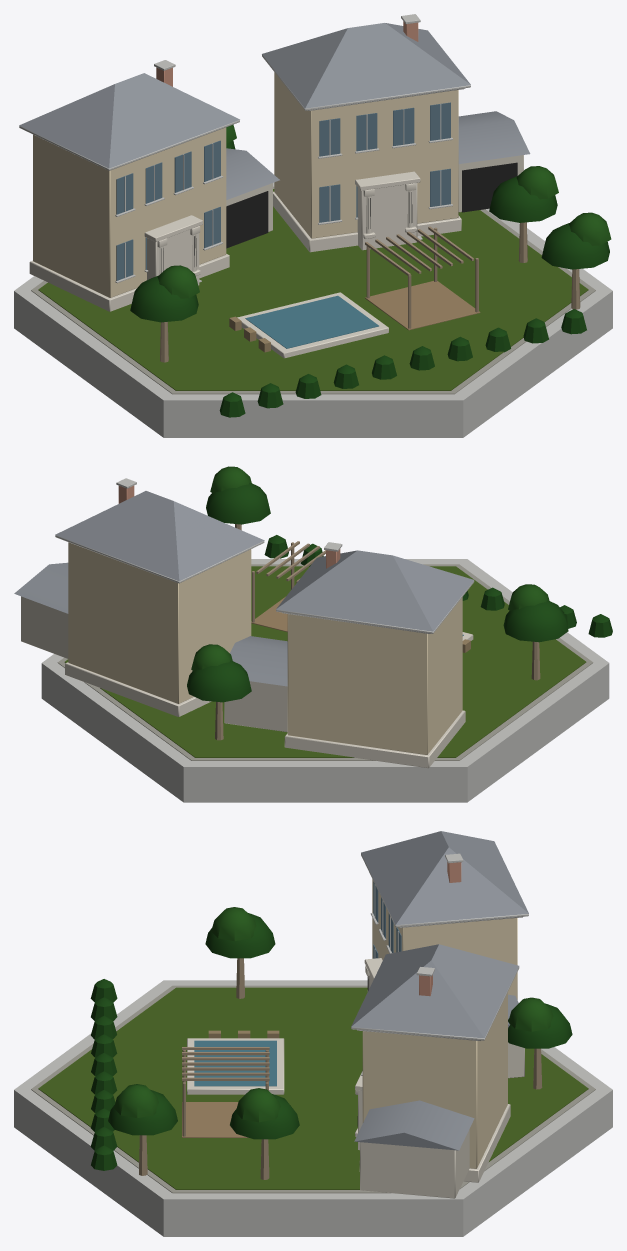
File: luxuryVillas_us.glb
3 renders of one model, top to bottom at view 1: azimuth 30°, elevation 25°; view 2: azimuth 150°, elevation 25°; view 3: azimuth 270°, elevation 25°, orthographic. The views are drawn at different scales.
Visible parts, largest first — view 1: turf, plaster, wall_concrete, roof_slate, leaf, stone, glass, wood, dark, pavers, cladding; view 2: plaster, wall_concrete, roof_slate, turf, leaf, cladding, stone, pavers, wood; view 3: turf, wall_concrete, roof_slate, plaster, leaf, wood, cladding, pavers, glass, stone, brick.
Part boxes in pixels (left/top/right/bottom): turf: left=38, top=189, right=588, bottom=390; plaster: left=33, top=72, right=458, bottom=297; wall_concrete: left=14, top=14, right=612, bottom=437; roof_slate: left=19, top=23, right=530, bottom=199; leaf: left=130, top=124, right=611, bottom=417; stone: left=29, top=171, right=461, bottom=358; glass: left=116, top=102, right=450, bottom=348; wood: left=160, top=222, right=580, bottom=362; dark: left=161, top=162, right=517, bottom=272; pavers: left=31, top=186, right=595, bottom=394; cladding: left=226, top=155, right=523, bottom=231; plaster: left=68, top=542, right=462, bottom=754; wall_concrete: left=41, top=478, right=609, bottom=802; roof_slate: left=14, top=491, right=473, bottom=686; turf: left=64, top=566, right=586, bottom=757; leaf: left=187, top=466, right=612, bottom=702; cladding: left=21, top=596, right=287, bottom=732; stone: left=65, top=632, right=473, bottom=768; pavers: left=57, top=564, right=593, bottom=760; wood: left=215, top=524, right=540, bottom=740; turf: left=38, top=987, right=588, bottom=1189; wall_concrete: left=14, top=853, right=612, bottom=1236; roof_slate: left=351, top=831, right=528, bottom=1150; plaster: left=362, top=879, right=517, bottom=1168; leaf: left=90, top=907, right=572, bottom=1170; wood: left=139, top=958, right=542, bottom=1179; cladding: left=360, top=1042, right=524, bottom=1198; pavers: left=31, top=985, right=595, bottom=1193; glass: left=194, top=881, right=401, bottom=1086; stone: left=187, top=958, right=510, bottom=1182; brick: left=419, top=862, right=461, bottom=996.
Bounding box in the file's own units: 22.78 × 10.5 × 24.6.
